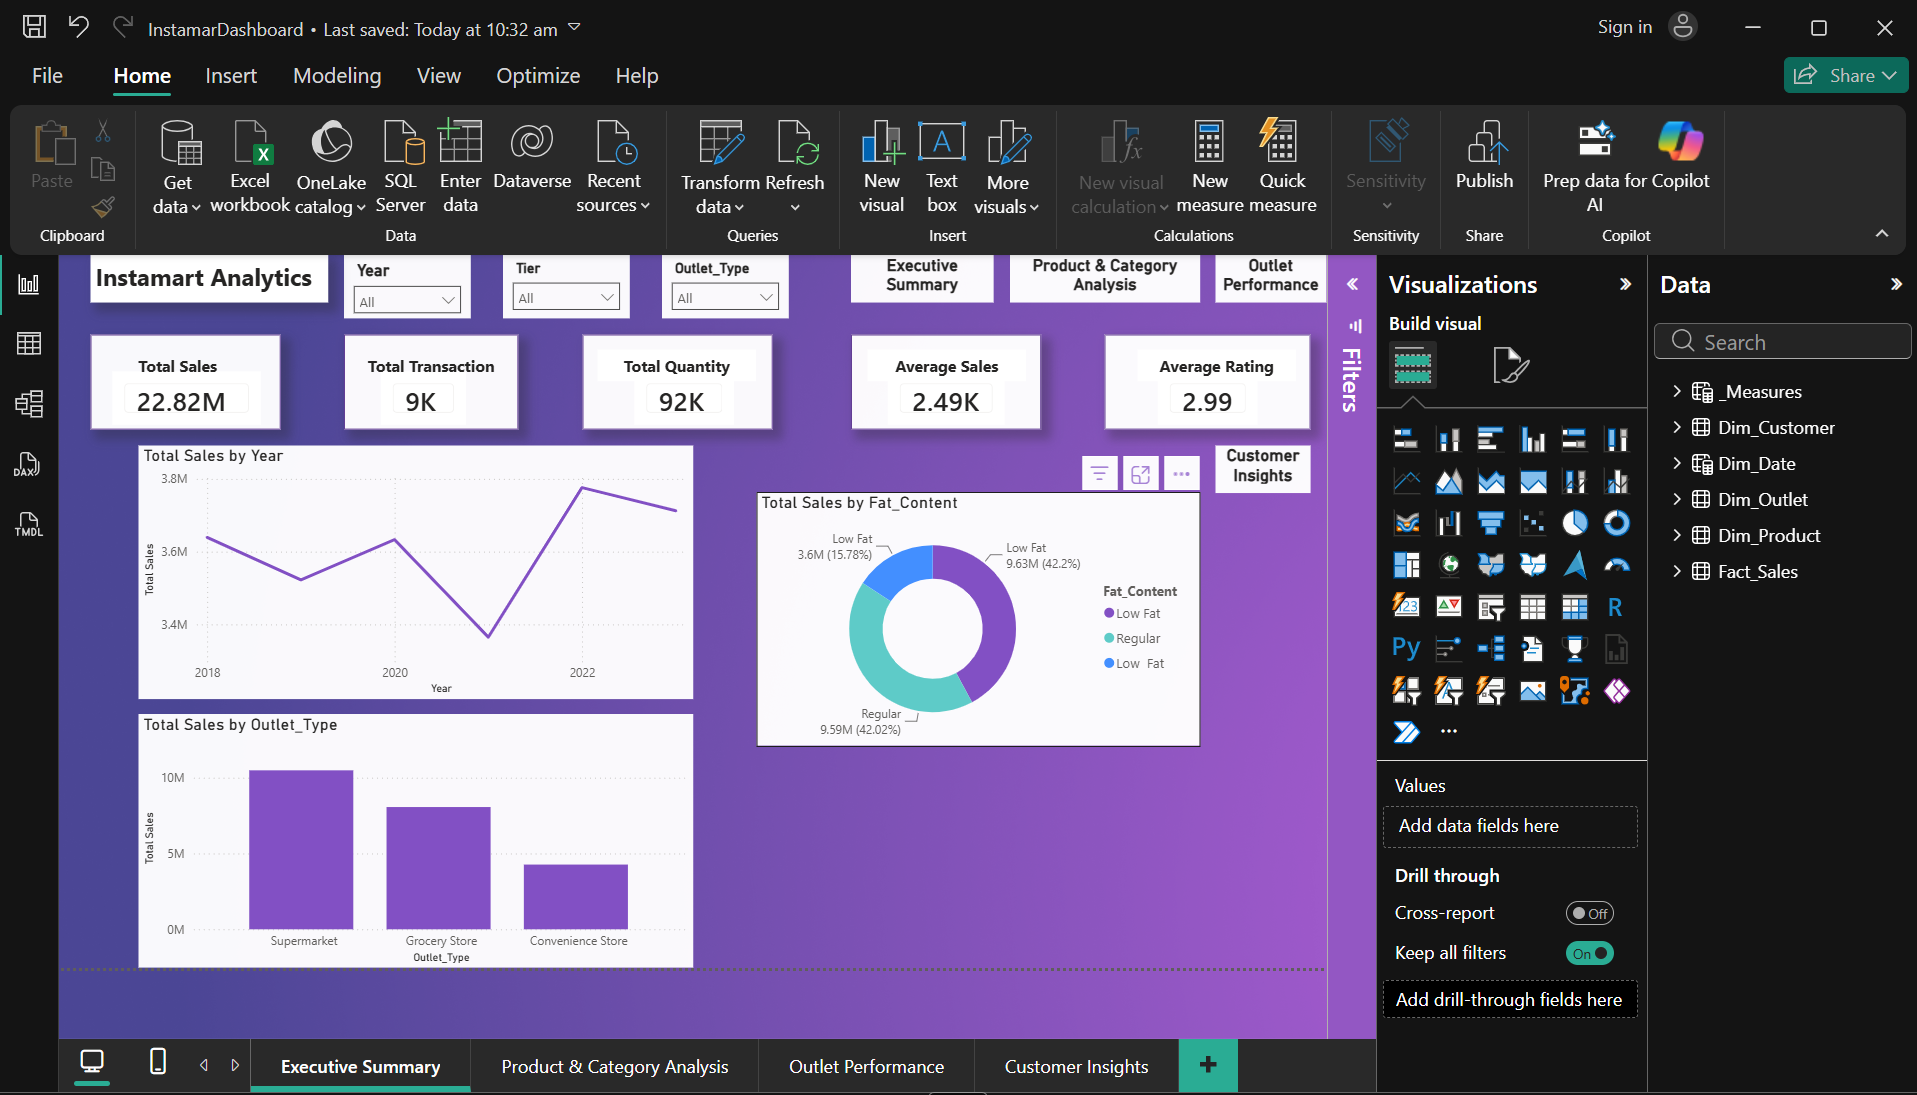

The dashboard page shown, as its layout file describes it:
{"tool":"powerbi","page":{"name":"Executive Summary","canvas":[1280,720],"ordinal":0},"visuals":[{"type":"shape","box":[32,80,192,96],"z":0},{"type":"shape","box":[800,80,192,96],"z":1000},{"type":"shape","box":[528,80,192,96],"z":2000},{"type":"shape","box":[288,80,176,96],"z":3000},{"type":"cardVisual","fields":{"Data":["_Measures.Total Sales"]},"box":[48,112,160,64],"z":4000},{"type":"textbox","box":[32,96,176,64],"z":5000},{"type":"cardVisual","fields":{"Data":["_Measures.Total Transactions"]},"box":[320,112,96,64],"z":6000},{"type":"cardVisual","fields":{"Data":["_Measures.Total Quantity"]},"box":[576,112,112,64],"z":7000},{"type":"cardVisual","fields":{"Data":["_Measures.Average Sales"]},"box":[832,112,128,64],"z":8000},{"type":"shape","box":[1056,80,208,96],"z":9000},{"type":"cardVisual","fields":{"Data":["_Measures.Average Rating"]},"box":[1104,112,112,64],"z":10000},{"type":"textbox","box":[288,96,176,32],"z":11000},{"type":"textbox","box":[544,96,160,32],"z":12000},{"type":"textbox","box":[816,96,160,32],"z":13000},{"type":"textbox","box":[1088,96,160,32],"z":14000},{"type":"lineChart","fields":{"Category":["Dim_Date.Year"],"Y":["_Measures.Total Sales"]},"box":[80,192,560,256],"z":15000},{"type":"clusteredColumnChart","fields":{"Category":["Dim_Outlet.Outlet_Type"],"Y":["_Measures.Total Sales"]},"box":[80,464,560,256],"z":16000},{"type":"donutChart","fields":{"Category":["Dim_Product.Fat_Content"],"Y":["_Measures.Total Sales"]},"box":[704,240,448,256],"z":17000},{"type":"slicer","fields":{"Values":["Dim_Outlet.Tier"]},"box":[448,0,128,64],"z":19000},{"type":"slicer","fields":{"Values":["Dim_Date.Year"]},"box":[288,0,128,64],"z":20000},{"type":"slicer","fields":{"Values":["Dim_Outlet.Outlet_Type"]},"box":[608,0,128,64],"z":21000},{"type":"textbox","box":[32,0,240,48],"z":22000},{"type":"actionButton","title":"Product & Category Analysis","box":[960,0,192,48],"z":23000},{"type":"actionButton","title":"Outlet Performance","box":[1168,0,112,48],"z":24000},{"type":"actionButton","title":"Executive Summary","box":[800,0,144,48],"z":25000},{"type":"actionButton","title":"Customer Insights ","box":[1168,192,96,48],"z":26000}]}

Visuals, with their boxes on the page's 1280x720 design canvas (x1, y1, x2, y2). These are canvas units, not pixel positions in the 1917x1095 screenshot, which may show the page scaled, cropped or inside an application window:
shape: bbox=(32, 80, 224, 176)
shape: bbox=(800, 80, 992, 176)
shape: bbox=(528, 80, 720, 176)
shape: bbox=(288, 80, 464, 176)
cardVisual - _Measures.Total Sales: bbox=(48, 112, 208, 176)
textbox: bbox=(32, 96, 208, 160)
cardVisual - _Measures.Total Transactions: bbox=(320, 112, 416, 176)
cardVisual - _Measures.Total Quantity: bbox=(576, 112, 688, 176)
cardVisual - _Measures.Average Sales: bbox=(832, 112, 960, 176)
shape: bbox=(1056, 80, 1264, 176)
cardVisual - _Measures.Average Rating: bbox=(1104, 112, 1216, 176)
textbox: bbox=(288, 96, 464, 128)
textbox: bbox=(544, 96, 704, 128)
textbox: bbox=(816, 96, 976, 128)
textbox: bbox=(1088, 96, 1248, 128)
lineChart - Dim_Date.Year x _Measures.Total Sales: bbox=(80, 192, 640, 448)
clusteredColumnChart - Dim_Outlet.Outlet_Type x _Measures.Total Sales: bbox=(80, 464, 640, 720)
donutChart - Dim_Product.Fat_Content x _Measures.Total Sales: bbox=(704, 240, 1152, 496)
slicer - Dim_Outlet.Tier: bbox=(448, 0, 576, 64)
slicer - Dim_Date.Year: bbox=(288, 0, 416, 64)
slicer - Dim_Outlet.Outlet_Type: bbox=(608, 0, 736, 64)
textbox: bbox=(32, 0, 272, 48)
"Product & Category Analysis" actionButton: bbox=(960, 0, 1152, 48)
"Outlet Performance" actionButton: bbox=(1168, 0, 1280, 48)
"Executive Summary" actionButton: bbox=(800, 0, 944, 48)
"Customer Insights " actionButton: bbox=(1168, 192, 1264, 240)
